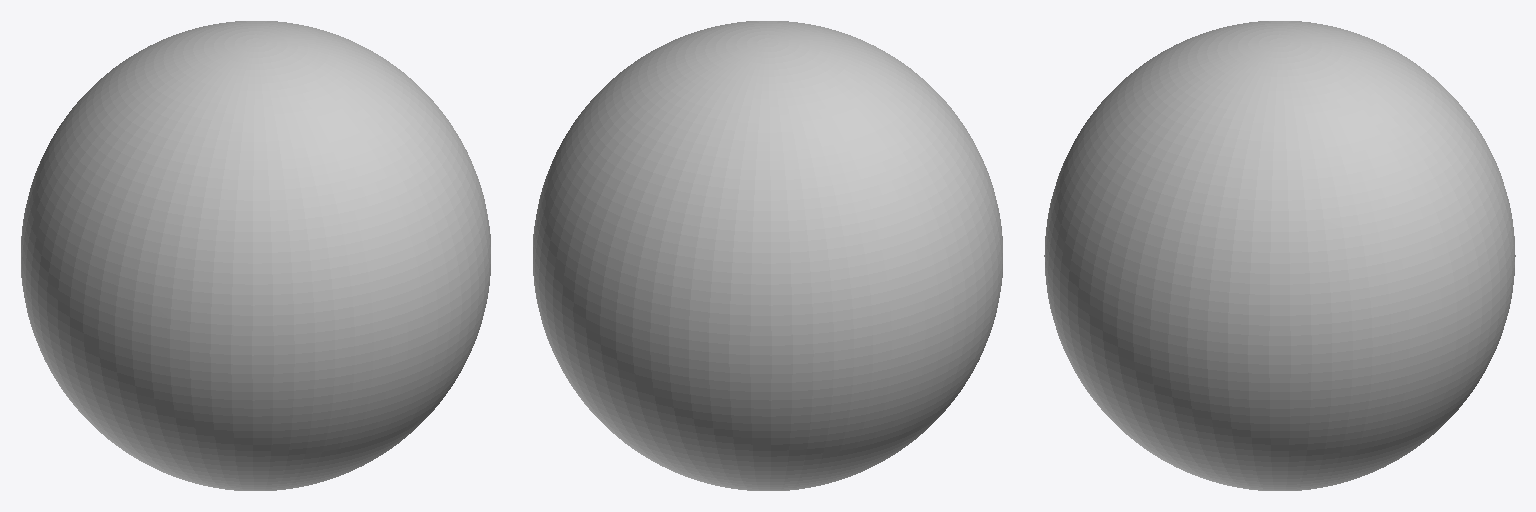
The model's file is sphereSuper.obj.
3 views of the same model, side by side, from view 1: azimuth 30°, elevation 25°; view 2: azimuth 150°, elevation 25°; view 3: azimuth 270°, elevation 25° (orthographic).
Parts seen in each view (by area): view 1: Sphere; view 2: Sphere; view 3: Sphere.
Boxes of the visible parts, x1,y1,x2,y2 form: Sphere: [21, 21, 490, 490]; Sphere: [533, 21, 1002, 490]; Sphere: [1044, 21, 1515, 490].
Size of the model in its own units: 2 by 2 by 2.